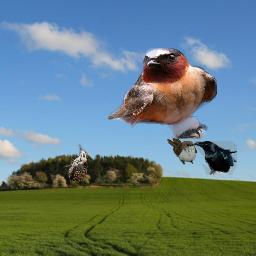Crow: (194, 141, 237, 175)
Cuckoo: (167, 138, 198, 165)
Swallow: (108, 48, 217, 139)
Woodpecker: (64, 144, 88, 181)
